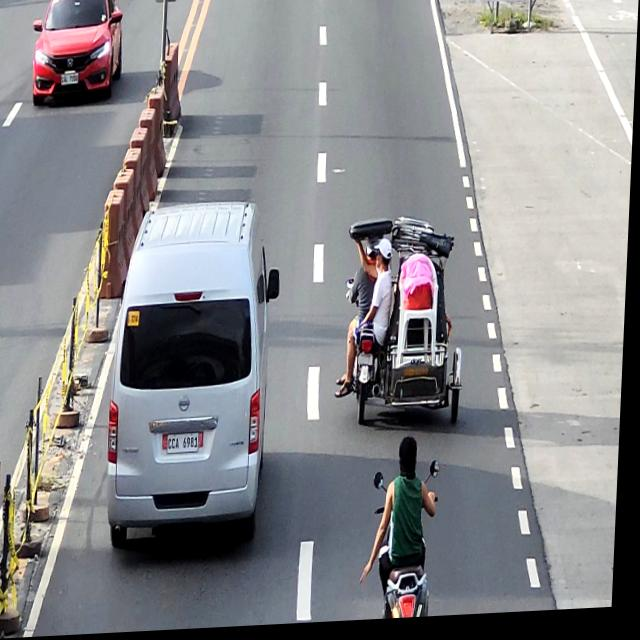Car: (108, 200, 286, 550), (30, 0, 125, 107)
License-Plate: (170, 432, 204, 456), (61, 73, 80, 85), (361, 358, 377, 372)
Motorcycle: (372, 464, 445, 623)
Tricycle: (342, 216, 472, 433)
